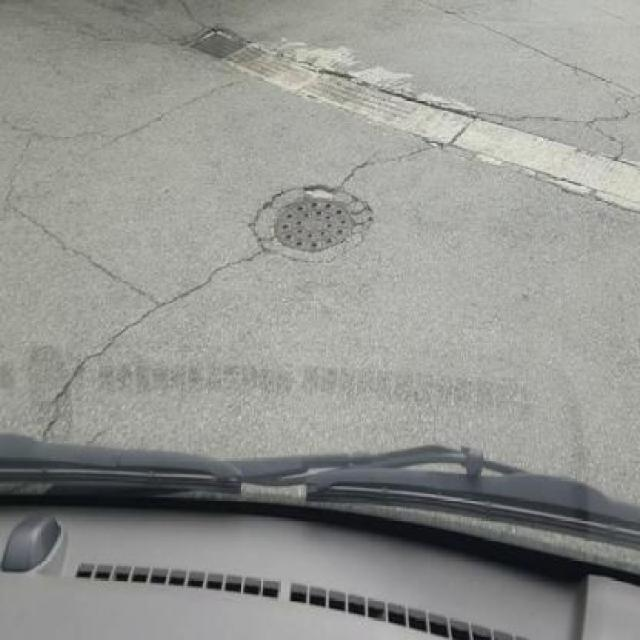Manhole: (244, 182, 384, 270)
